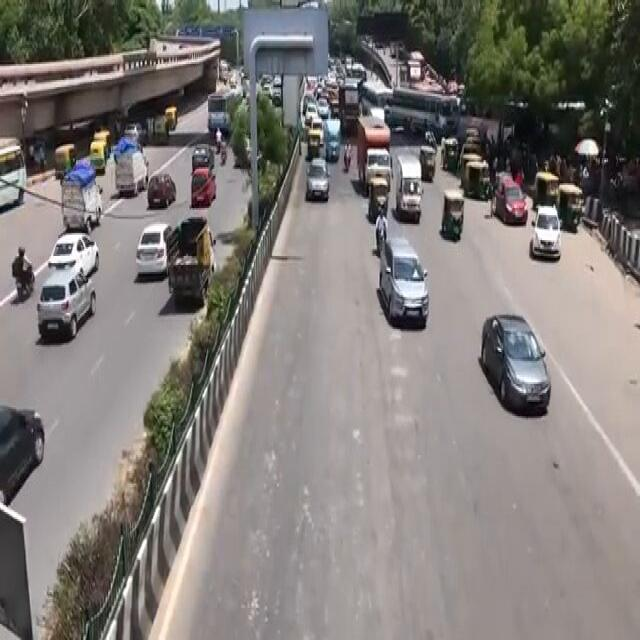three_wheeler: (434, 181, 469, 267)
